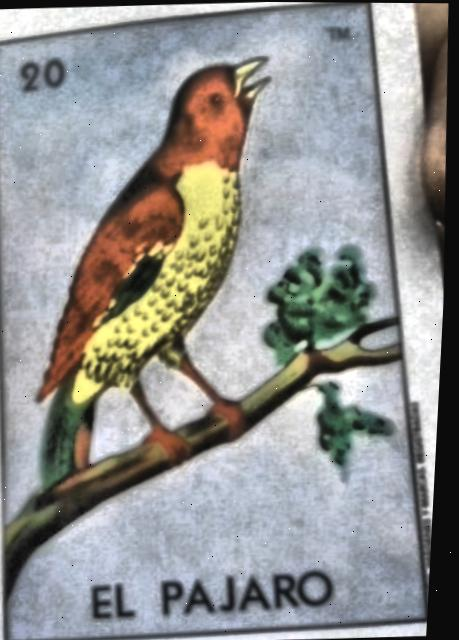El Pajaro: (4, 4, 435, 636)
